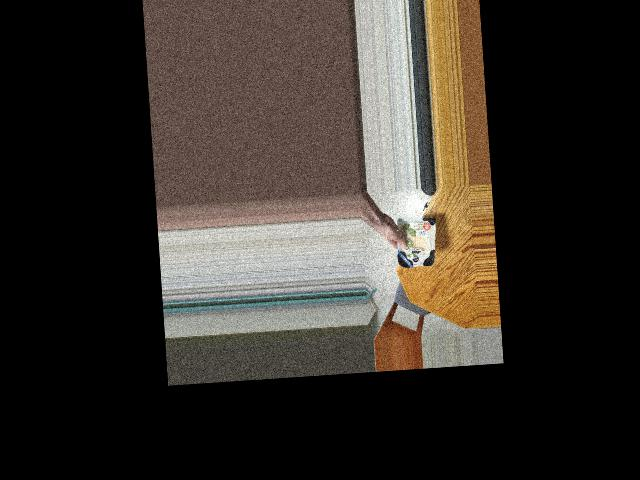cheese: (396, 207, 438, 276)
